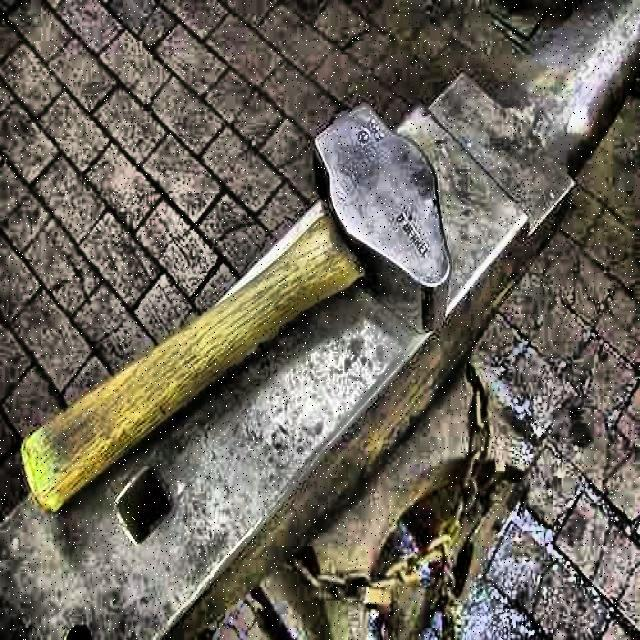hammer: (26, 101, 454, 512)
